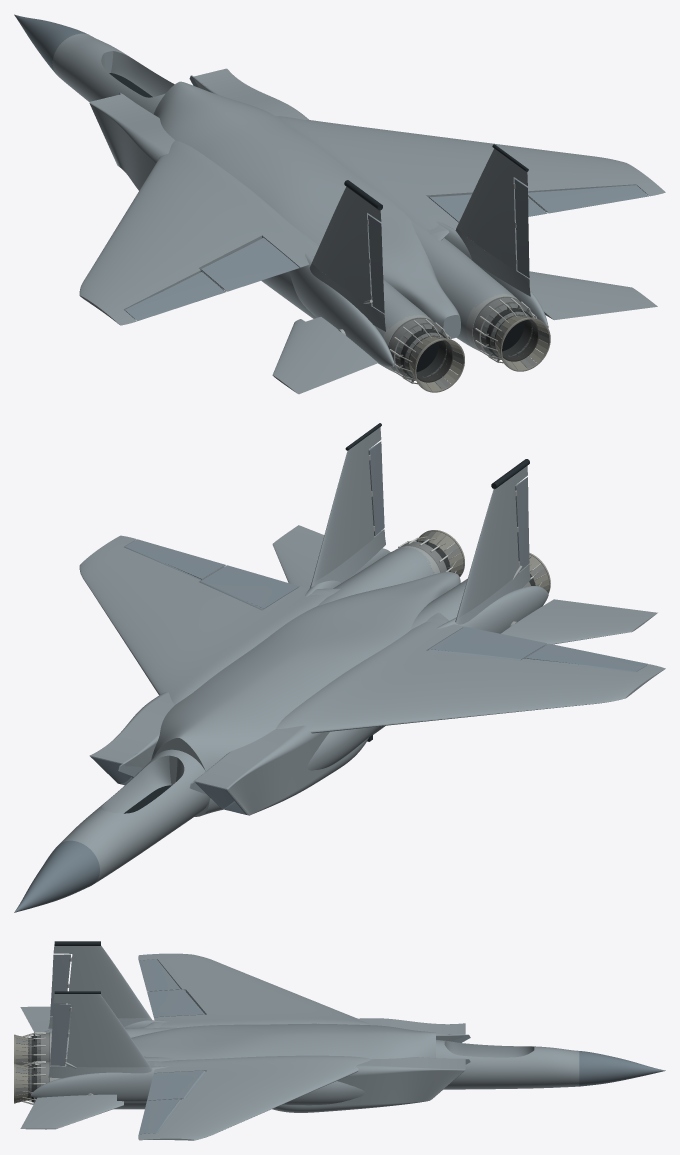
File: exhausts.glb
The picture shows the model from 3 angles, top to bottom: view 1: azimuth 30°, elevation 25°; view 2: azimuth 150°, elevation 25°; view 3: azimuth 270°, elevation 25°; orthographic projection. The views are drawn at different scales.
Visible parts, largest first — view 1: airframe_exhausts (×14); view 2: airframe_exhausts (×7); view 3: airframe_exhausts (×10).
Boxes of the visible parts, x1=… form: airframe_exhausts (×14): x1=14, y1=14, x2=665, y2=394; airframe_exhausts (×7): x1=14, y1=423, x2=665, y2=912; airframe_exhausts (×10): x1=15, y1=941, x2=665, y2=1140.
Size of the model in its own units: 13.05 by 4.15 by 19.43.
